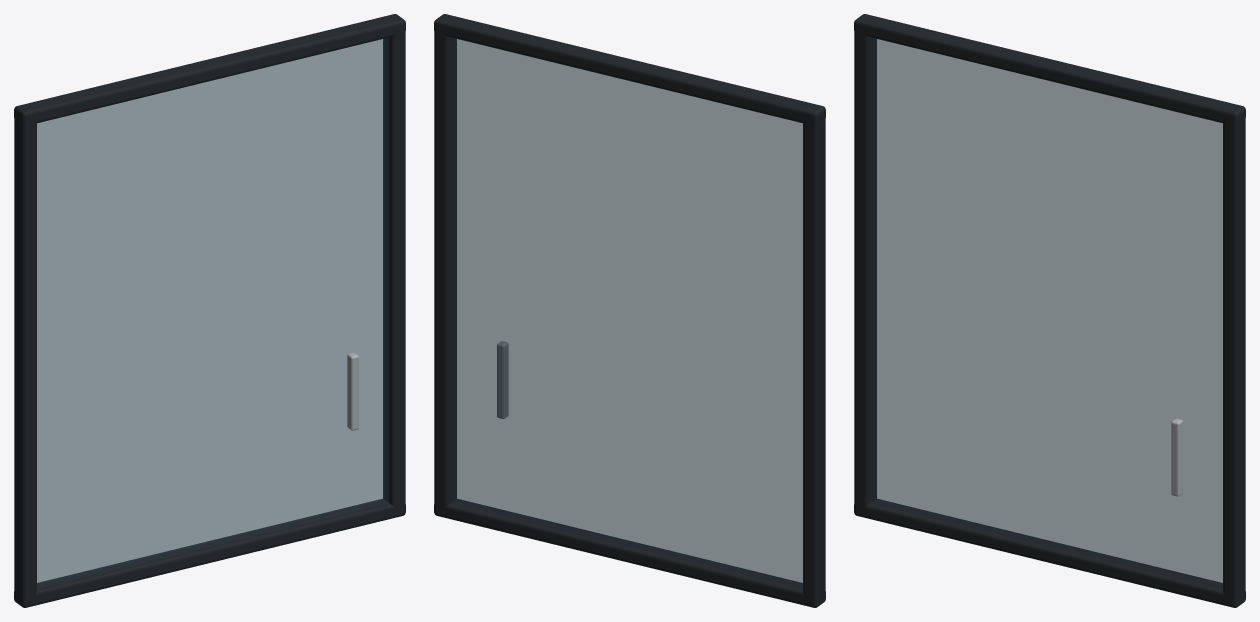
Rendered from automatic-door-leaf.glb.
3 views of the same model, side by side, from view 1: azimuth 30°, elevation 25°; view 2: azimuth 150°, elevation 25°; view 3: azimuth 330°, elevation 25° (orthographic).
Visible parts, largest first — view 1: DOOR_GLASS, DOOR_STILE_-1.61, DOOR_STILE_1.61, DOOR_RAIL_4.06, DOOR_RAIL_0.04, DOOR_HANDLE; view 2: DOOR_GLASS, DOOR_STILE_-1.61, DOOR_STILE_1.61, DOOR_RAIL_4.06, DOOR_RAIL_0.04, DOOR_HANDLE; view 3: DOOR_GLASS, DOOR_STILE_1.61, DOOR_STILE_-1.61, DOOR_RAIL_4.06, DOOR_RAIL_0.04, DOOR_HANDLE.
Boxes of the visible parts, x1,y1,x2,y2 form: DOOR_GLASS: [37, 38, 388, 588]; DOOR_STILE_-1.61: [14, 113, 36, 602]; DOOR_STILE_1.61: [383, 31, 405, 507]; DOOR_RAIL_4.06: [14, 14, 405, 124]; DOOR_RAIL_0.04: [14, 499, 405, 607]; DOOR_HANDLE: [347, 352, 358, 430]; DOOR_GLASS: [451, 38, 802, 588]; DOOR_STILE_-1.61: [803, 114, 825, 602]; DOOR_STILE_1.61: [434, 26, 456, 508]; DOOR_RAIL_4.06: [434, 14, 825, 124]; DOOR_RAIL_0.04: [434, 499, 825, 607]; DOOR_HANDLE: [497, 341, 508, 418]; DOOR_GLASS: [871, 38, 1222, 588]; DOOR_STILE_1.61: [1223, 113, 1245, 602]; DOOR_STILE_-1.61: [854, 27, 876, 508]; DOOR_RAIL_4.06: [854, 14, 1245, 124]; DOOR_RAIL_0.04: [854, 499, 1245, 607]; DOOR_HANDLE: [1171, 418, 1182, 496].
Bounding box in the file's own units: 3.35 × 4.14 × 0.24.
